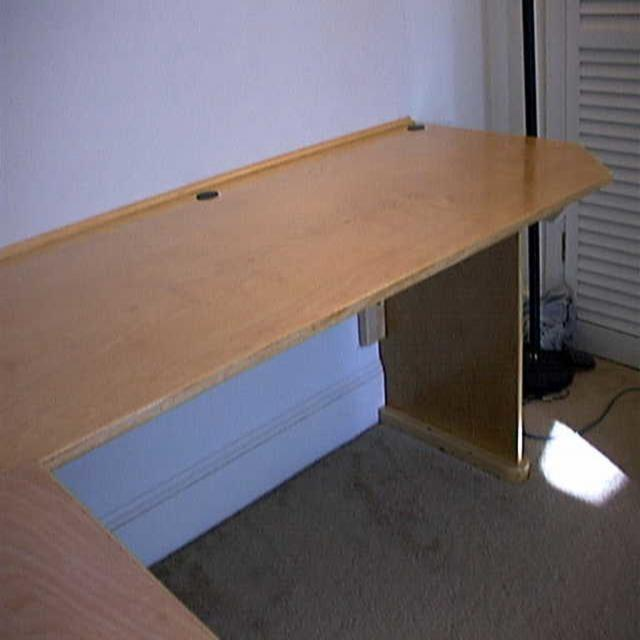desk: (0, 67, 640, 578)
